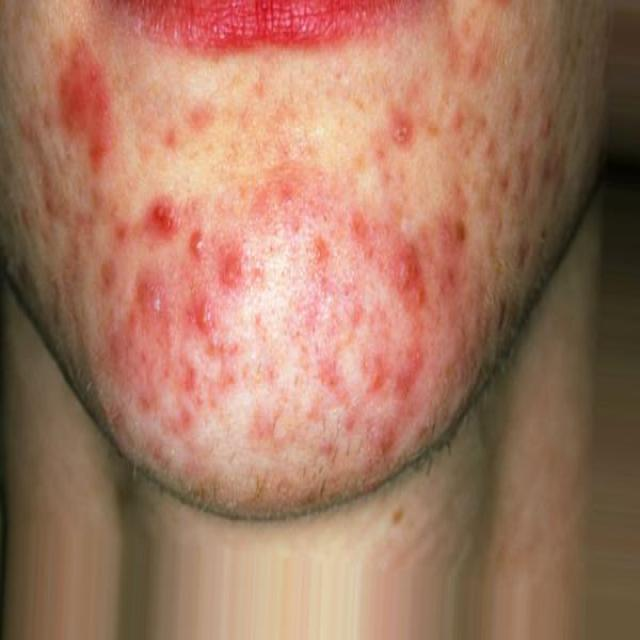acne: (40, 37, 123, 185), (140, 182, 212, 266), (206, 212, 256, 312), (433, 206, 499, 273), (362, 348, 412, 435), (176, 272, 222, 348), (390, 243, 444, 302), (177, 358, 222, 420), (375, 102, 425, 148)
